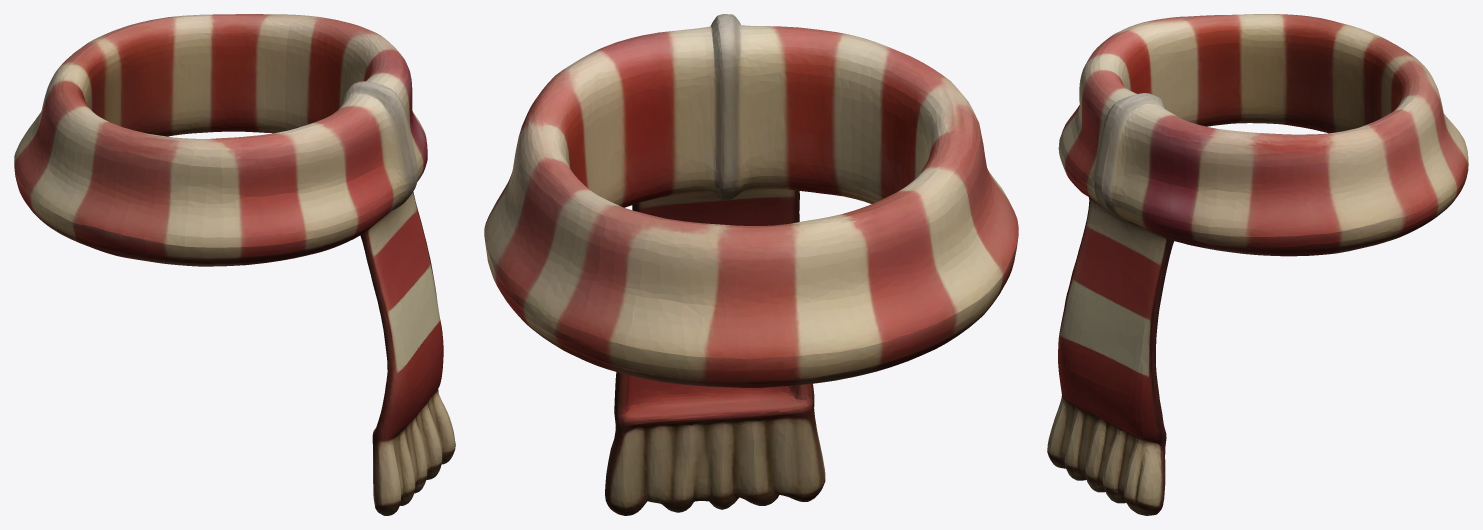
The model's file is head_accessory__0_095-.glb.
3 views of the same model, side by side, from view 1: azimuth 30°, elevation 25°; view 2: azimuth 150°, elevation 25°; view 3: azimuth 270°, elevation 25° (orthographic). The views are drawn at different scales.
Visible parts, largest first — view 1: geometry_0_095; view 2: geometry_0_095; view 3: geometry_0_095.
Part boxes in pixels (x1,y1,x2,y2): geometry_0_095: (14, 14, 455, 515); geometry_0_095: (484, 14, 1018, 515); geometry_0_095: (1047, 14, 1468, 515).
Bounding box in the file's own units: 0.9375 × 0.9986 × 0.988.
Materials: 1 (1 with a texture image).
